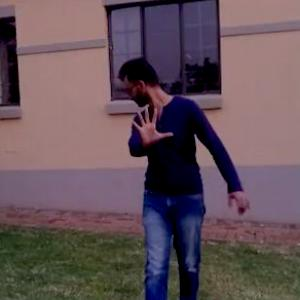follow_hand: (125, 102, 174, 149)
